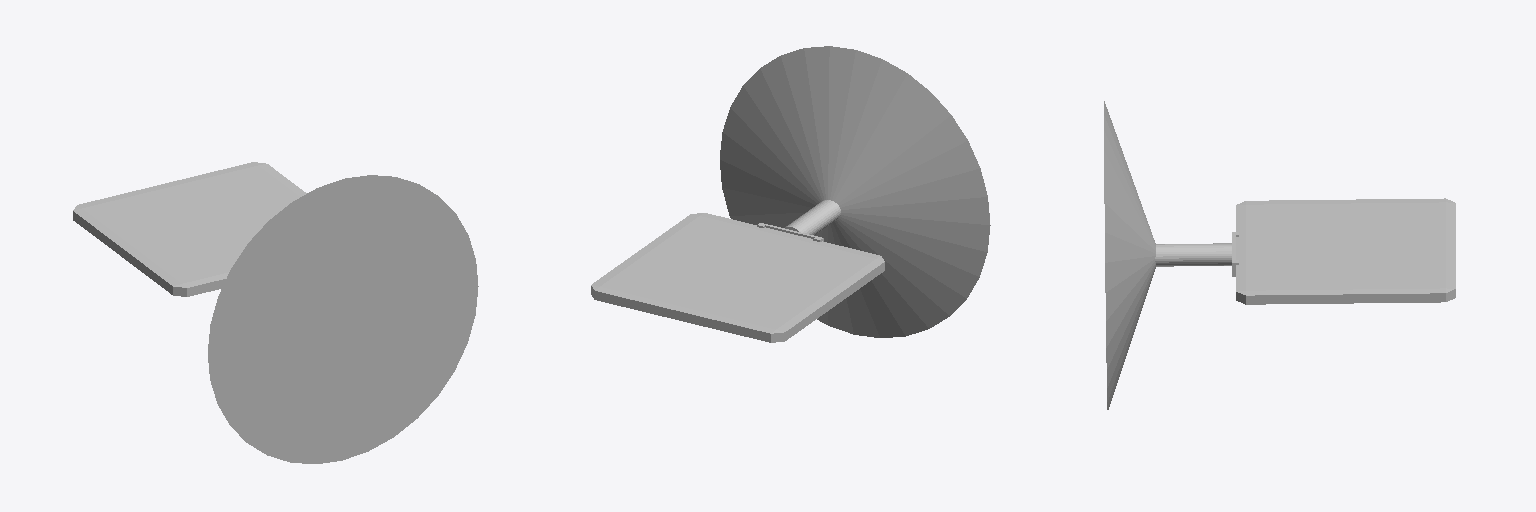
The model's file is cardstand.obj.
3 renders of one model, left to right at view 1: azimuth 30°, elevation 25°; view 2: azimuth 150°, elevation 25°; view 3: azimuth 270°, elevation 25°, orthographic.
Parts seen in each view (by area): view 1: gamedisk; view 2: gamedisk; view 3: gamedisk.
Boxes of the visible parts, box(x1,y1,x2,y2) form: gamedisk: box(73, 162, 478, 463); gamedisk: box(591, 46, 990, 342); gamedisk: box(1104, 101, 1455, 409).
Size of the model in its own units: 2 by 2 by 2.25.